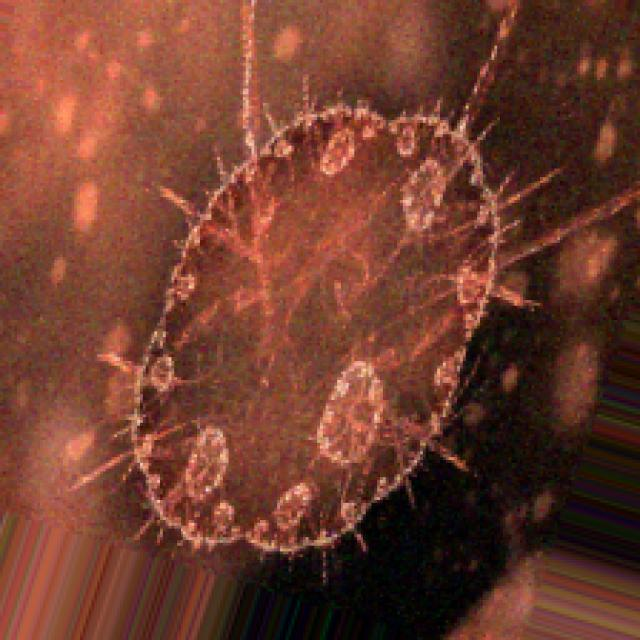Amoeba: (77, 86, 579, 590)
